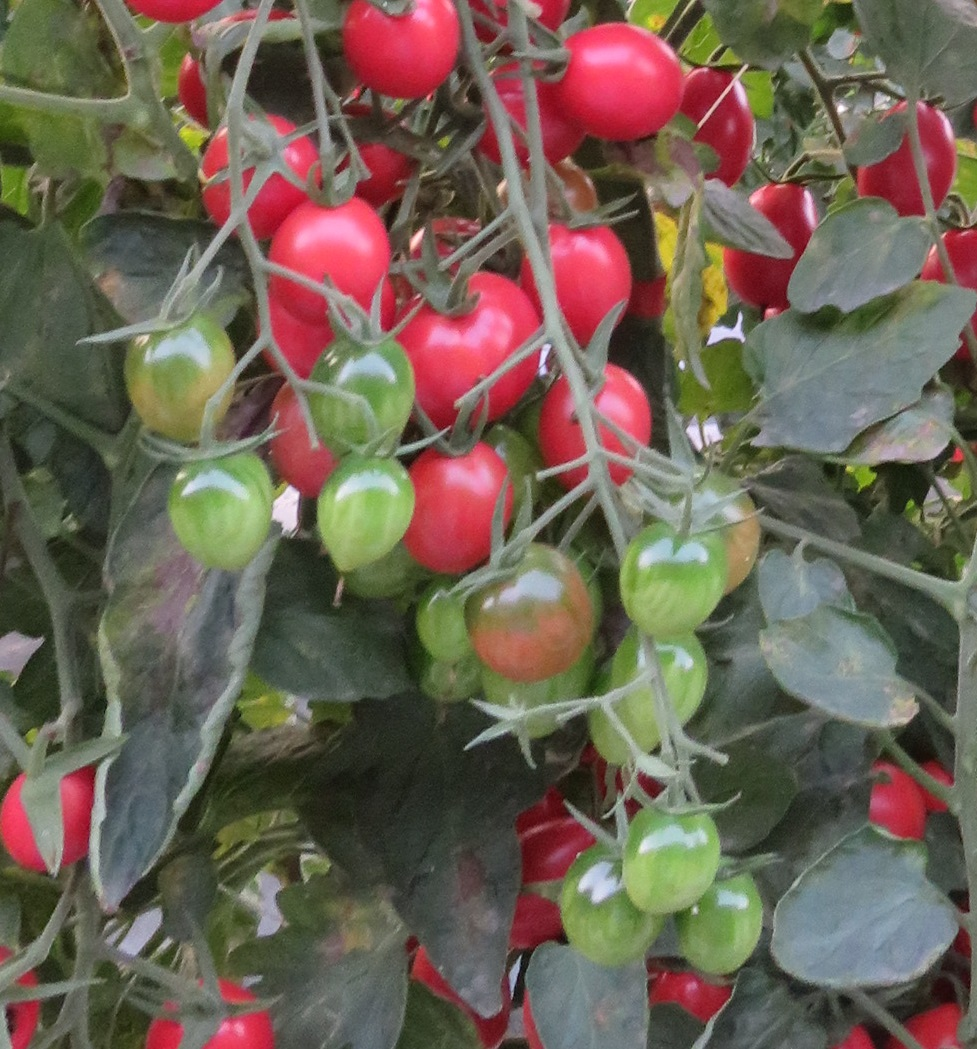green: (468, 538, 595, 679), (159, 441, 291, 574), (618, 786, 723, 927), (557, 836, 662, 974), (126, 311, 239, 433), (313, 453, 419, 572), (618, 523, 729, 633), (309, 337, 416, 447), (615, 636, 713, 737), (708, 858, 789, 970), (414, 581, 479, 667)
red: (389, 278, 541, 429), (547, 22, 695, 142), (260, 203, 407, 313), (194, 117, 322, 239), (546, 371, 659, 494), (408, 448, 515, 574), (729, 180, 827, 314), (858, 96, 959, 221), (339, 1, 465, 100), (1, 767, 111, 875), (132, 971, 283, 1049), (529, 222, 631, 333), (679, 63, 764, 185)
